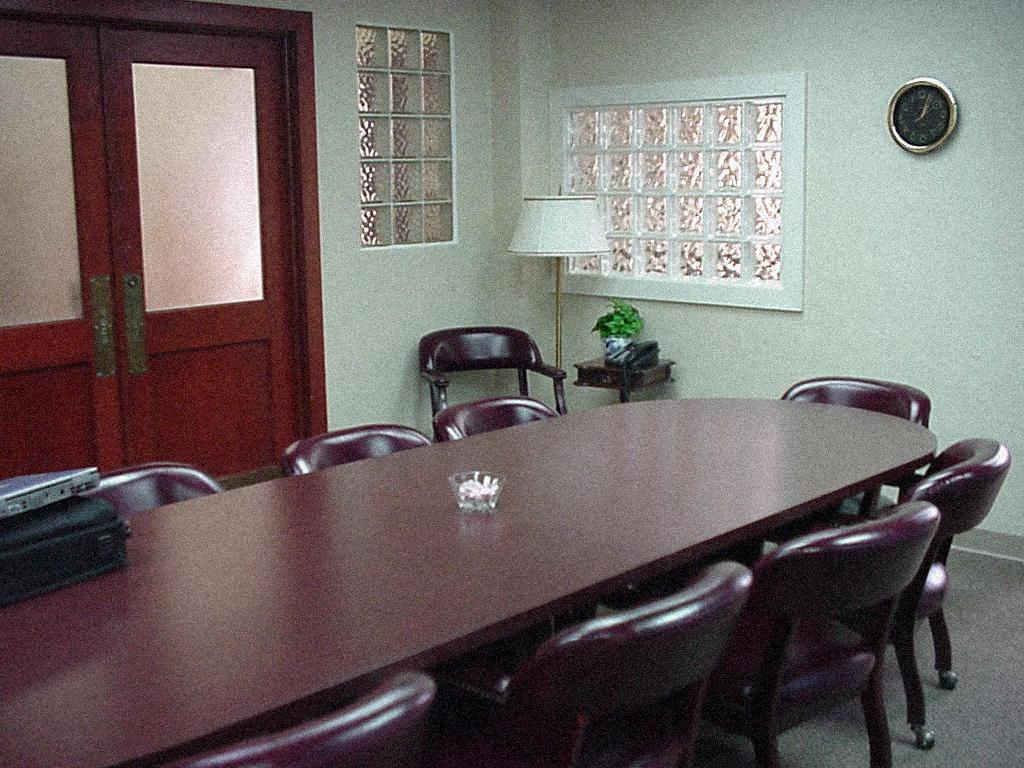Puerta: (1, 27, 300, 464)
